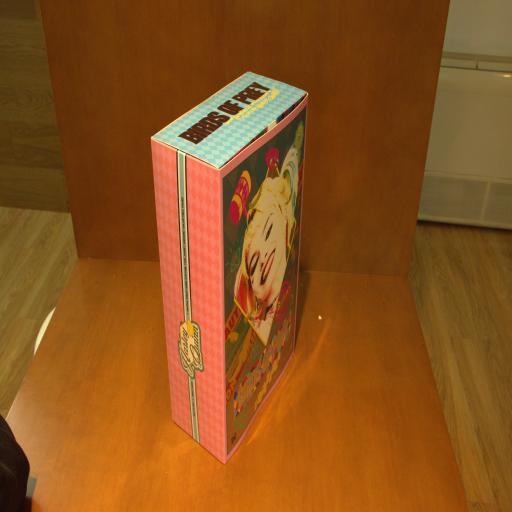Harley: (151, 70, 309, 466)
